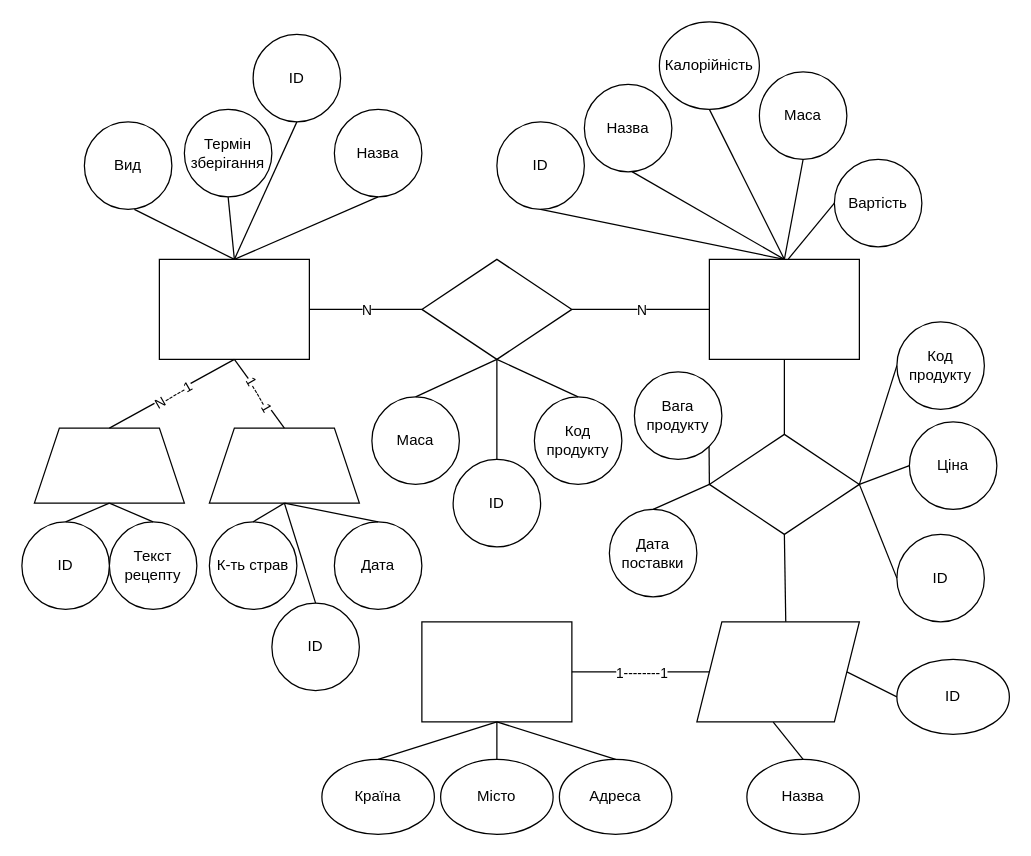
This 1031x856 diagram has some shape labels left out. Here are the shapes that lost their labels. From the top down, the box of each, then its label:
(158, 258, 309, 359): Страва
(421, 258, 572, 359): Склад страви
(708, 258, 859, 359): Продукти
(33, 427, 184, 503): Рецепти
(208, 427, 359, 503): Витрати
(708, 433, 859, 534): Поставка
(421, 621, 572, 722): Адреси
(696, 621, 859, 722): Постачальники
